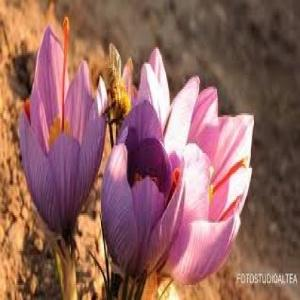Saffron: (163, 83, 262, 284), (21, 24, 105, 248), (101, 107, 188, 275)
